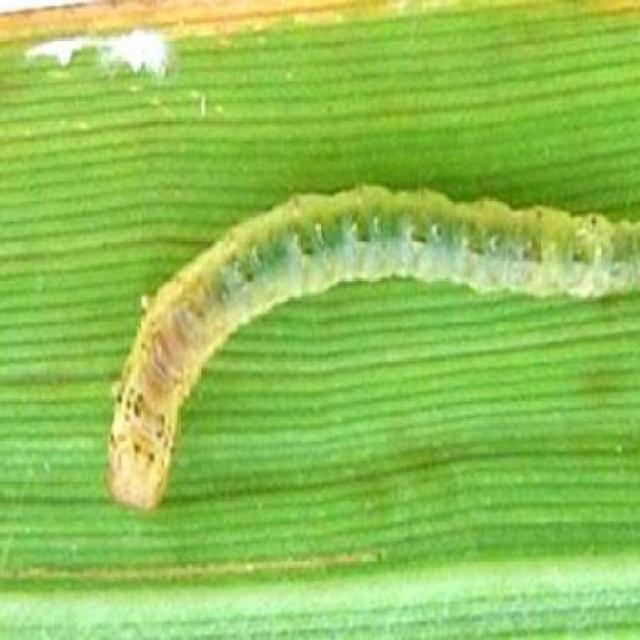leaf-folder: (98, 172, 640, 537)
